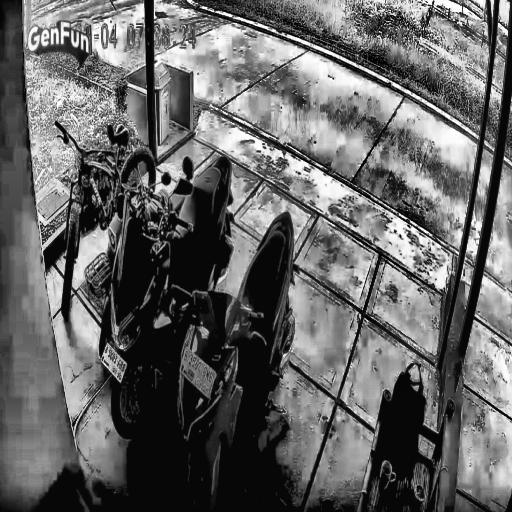aman: (156, 0, 476, 511), (455, 161, 512, 511)
